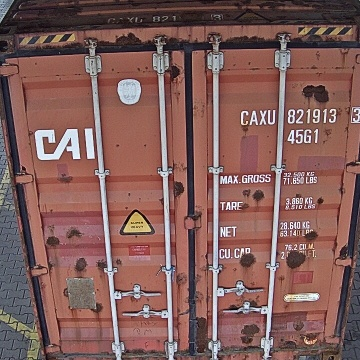serial_id: (240, 107, 360, 124)
